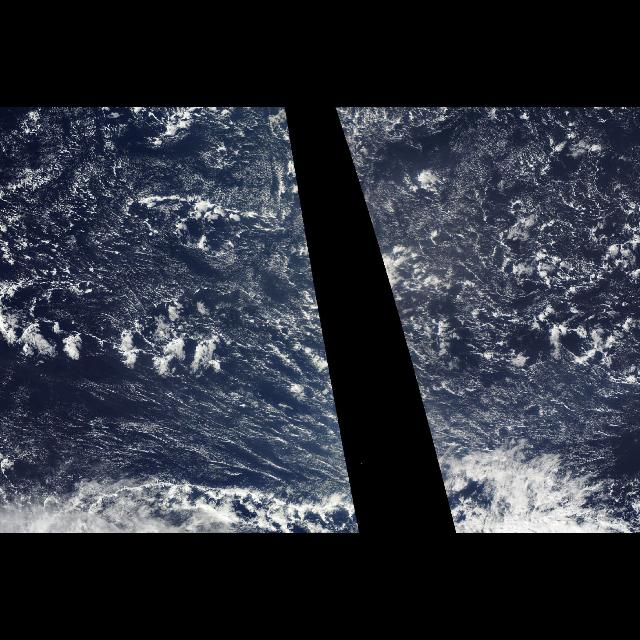Fish: (0, 432, 360, 534), (430, 432, 630, 534)
Flower: (22, 318, 225, 368)
Gravel: (5, 112, 323, 486), (392, 122, 640, 404)
Sugar: (14, 362, 353, 496), (408, 362, 622, 496)
